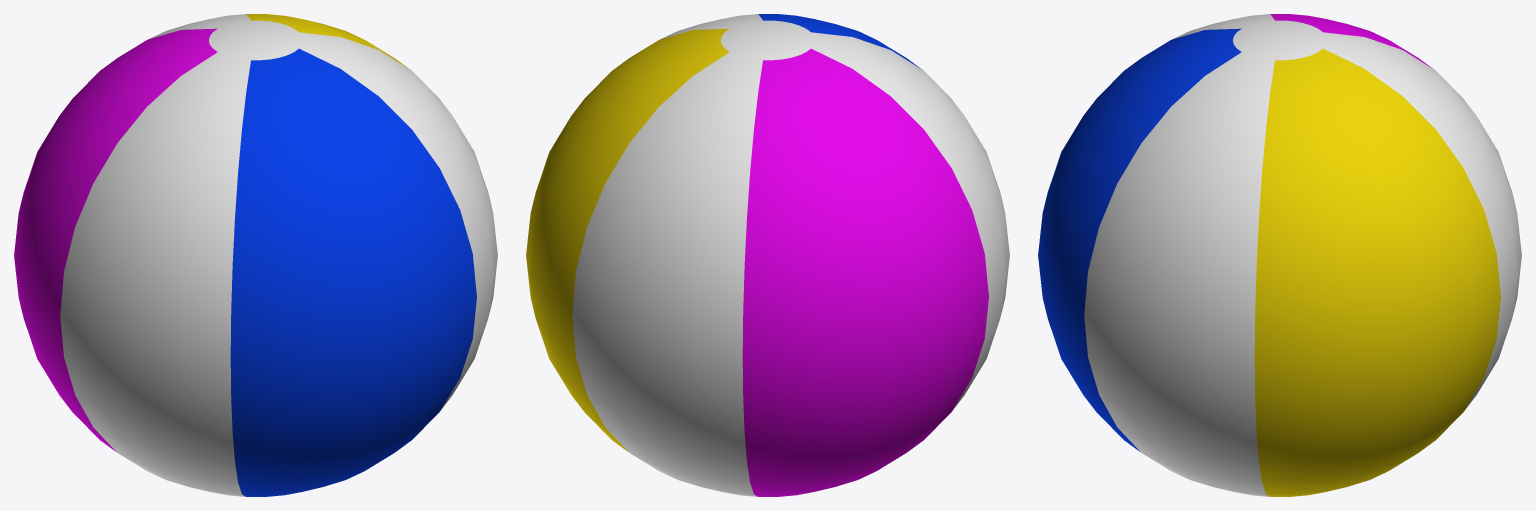
File: Ball.fbx
3 views of the same model, side by side, from view 1: azimuth 30°, elevation 25°; view 2: azimuth 150°, elevation 25°; view 3: azimuth 270°, elevation 25° (orthographic).
Parts seen in each view (by area): view 1: Sphere; view 2: Sphere; view 3: Sphere.
Part boxes in pixels (x1,y1,x2,y2): Sphere: (14,14,497,496); Sphere: (526,14,1009,496); Sphere: (1038,14,1521,496).
Size of the model in its own units: 199 by 200 by 200.
